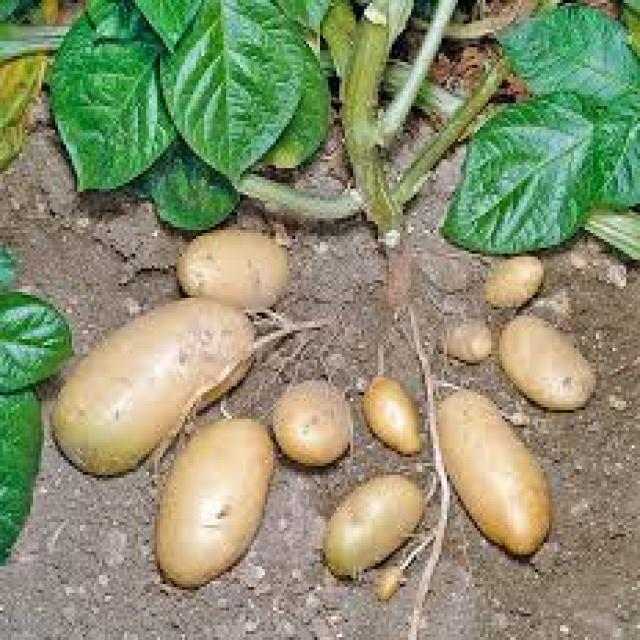Potato: (36, 272, 258, 478), (146, 376, 288, 604)
